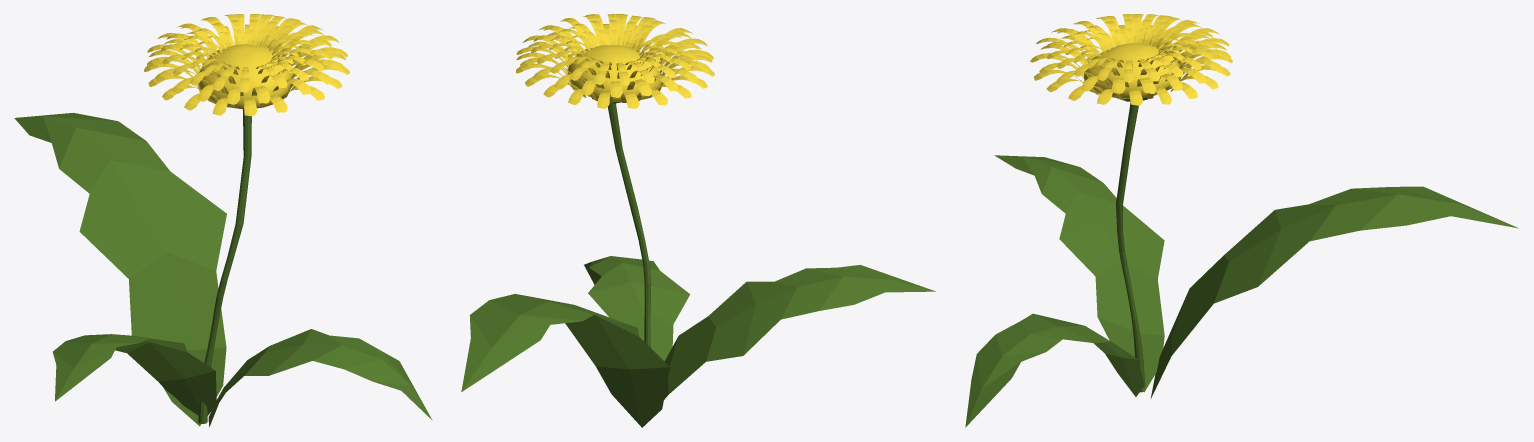
File: Dandelion.fbx
3 views of the same model, side by side, from view 1: azimuth 30°, elevation 25°; view 2: azimuth 150°, elevation 25°; view 3: azimuth 270°, elevation 25° (orthographic). The views are drawn at different scales.
Visible parts, largest first — view 1: Plane.001; view 2: Plane.001; view 3: Plane.001.
Part boxes in pixels (left/top/right/bottom): Plane.001: left=14, top=14, right=432, bottom=426; Plane.001: left=461, top=14, right=935, bottom=427; Plane.001: left=965, top=14, right=1518, bottom=427.
Bounding box in the file's own units: 965 × 964 × 1284.
